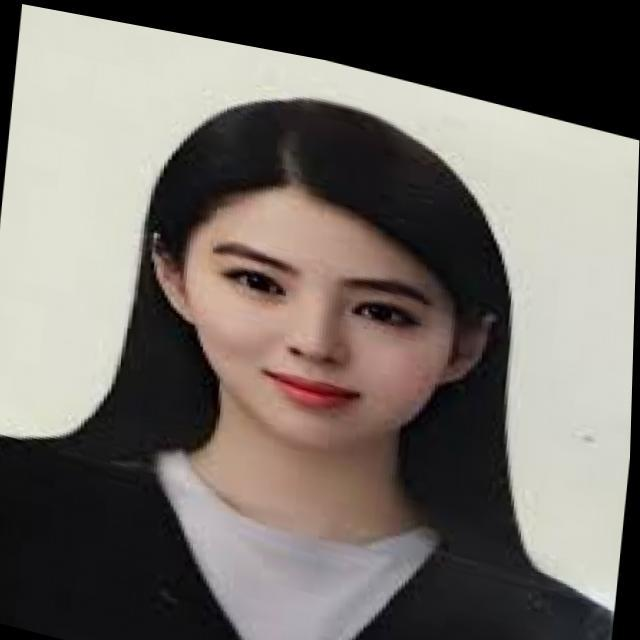Nonhelmet: (136, 97, 510, 458)
